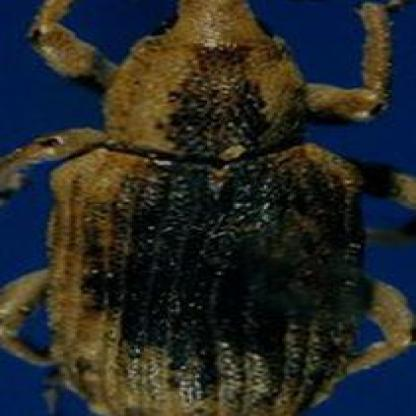rice-bug: (37, 2, 390, 416)
